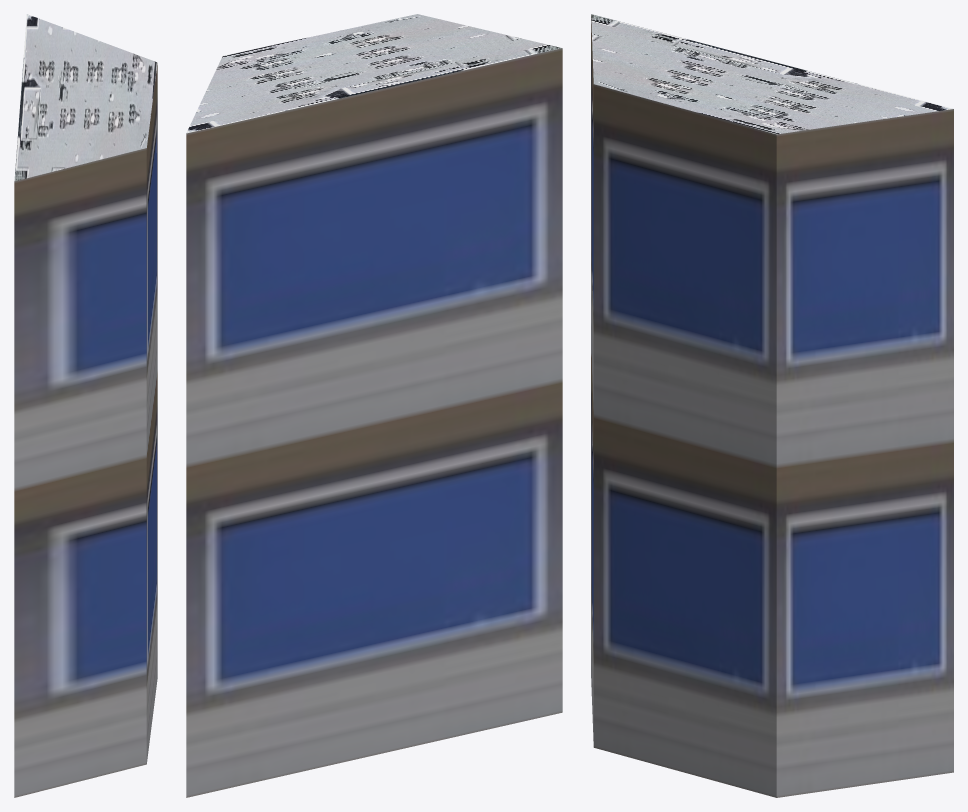
File: ResTex__3622.fbx
3 renders of one model, left to right at view 1: azimuth 30°, elevation 25°; view 2: azimuth 150°, elevation 25°; view 3: azimuth 270°, elevation 25°, orthographic. The views are drawn at different scales.
Parts seen in each view (by area): view 1: CityEngineMaterial_23_m, CityEngineMaterial_4_m; view 2: CityEngineMaterial_23_m, CityEngineMaterial_4_m; view 3: CityEngineMaterial_23_m, CityEngineMaterial_4_m.
Part boxes in pixels (box(x1,y1,x2,y2)): CityEngineMaterial_23_m: box(14, 63, 157, 797); CityEngineMaterial_4_m: box(14, 14, 157, 181); CityEngineMaterial_23_m: box(186, 48, 562, 797); CityEngineMaterial_4_m: box(186, 14, 562, 133); CityEngineMaterial_23_m: box(591, 15, 953, 797); CityEngineMaterial_4_m: box(591, 14, 952, 134).
Bounding box in the file's own units: 2.34 × 6 × 2.97.
Materials: 2 (2 with a texture image).
